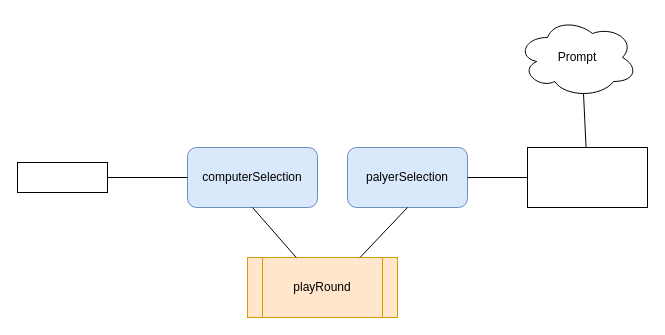
Some shapes in this 665 by 335 pixel diagram are drawn without their labels. Here are the shapes that lost their labels. From the top down, the box of each, then its label:
(16, 162, 108, 192): computerPlay
(526, 146, 648, 208): playerArray
